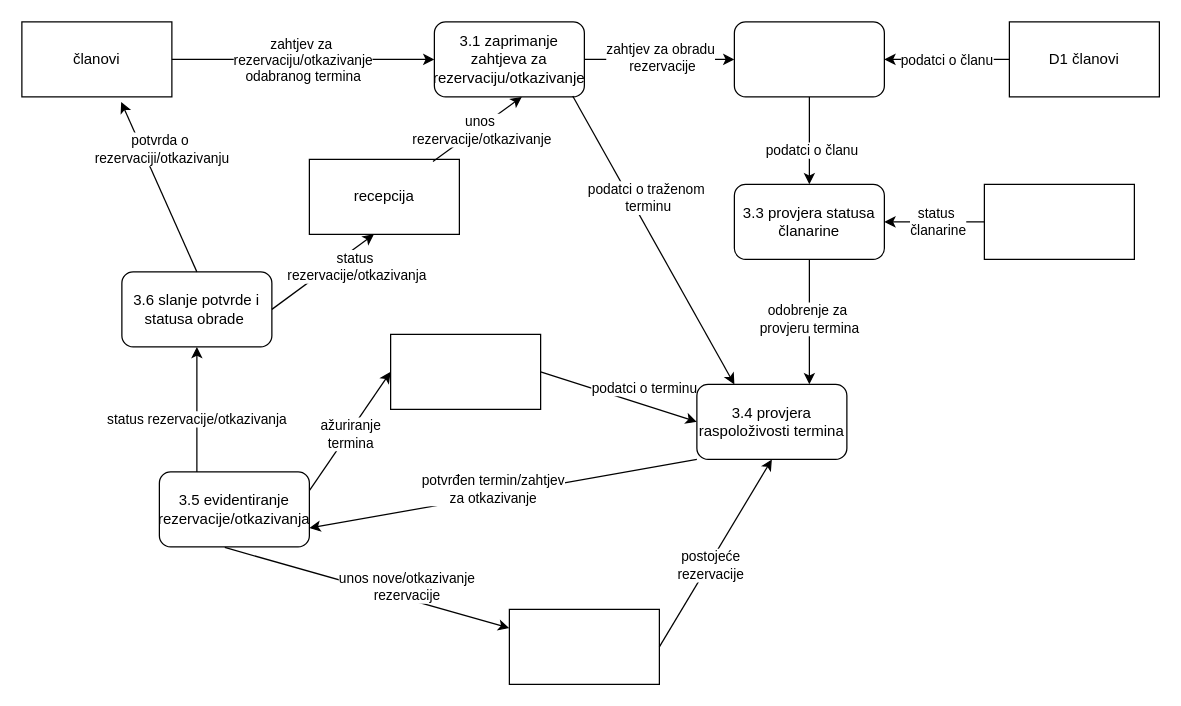
The diagram is 1181 pixels wide and 706 high, and some of its shapes have lost their labels. The shapes that lost their labels are listed below. From the top down, each one's centre as x and y in pixels, then its label:
pixel 808 59: 3.2 dohvat podataka o članu
pixel 1058 221: D5 članarine
pixel 465 371: D3 evidencija termina
pixel 583 646: D4 evidencija rezervacije
